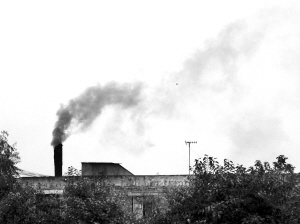dust: (47, 77, 142, 150)
